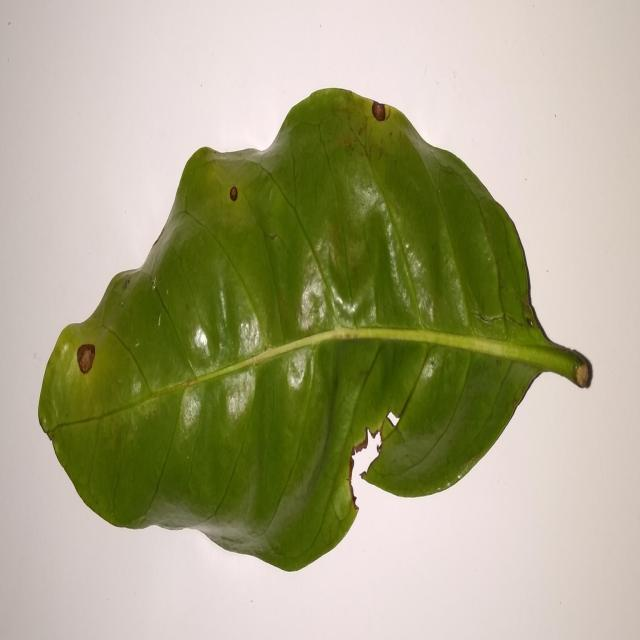Enfermedad-Mancha-de-hierro: (36, 88, 595, 574)
